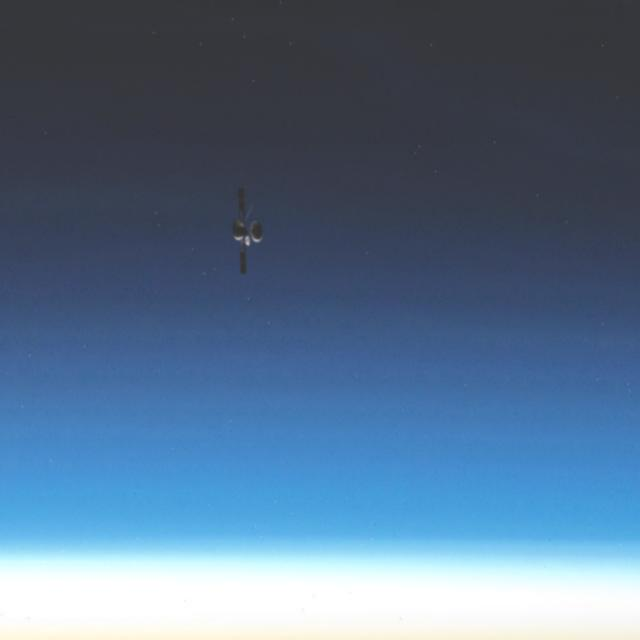satellite: (222, 175, 276, 293)
